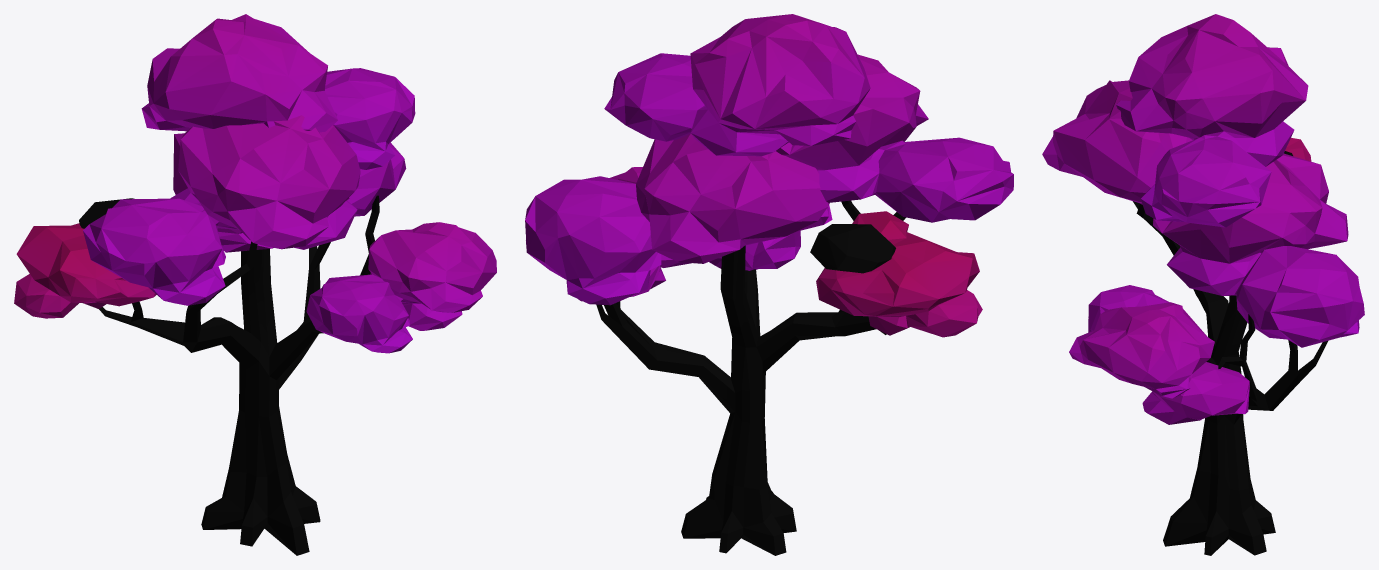
Rendered from SM_Env_Tree_04.glb.
3 renders of one model, left to right at view 1: azimuth 30°, elevation 25°; view 2: azimuth 150°, elevation 25°; view 3: azimuth 270°, elevation 25°, orthographic. The views are drawn at different scales.
Visible parts, largest first — view 1: SM_Env_Tree_04; view 2: SM_Env_Tree_04; view 3: SM_Env_Tree_04.
Boxes of the visible parts, bbox=[...] form: SM_Env_Tree_04: bbox=[14, 14, 496, 555]; SM_Env_Tree_04: bbox=[525, 14, 1013, 555]; SM_Env_Tree_04: bbox=[1042, 14, 1364, 555].
Size of the model in its own units: 1202 by 1398 by 818.
